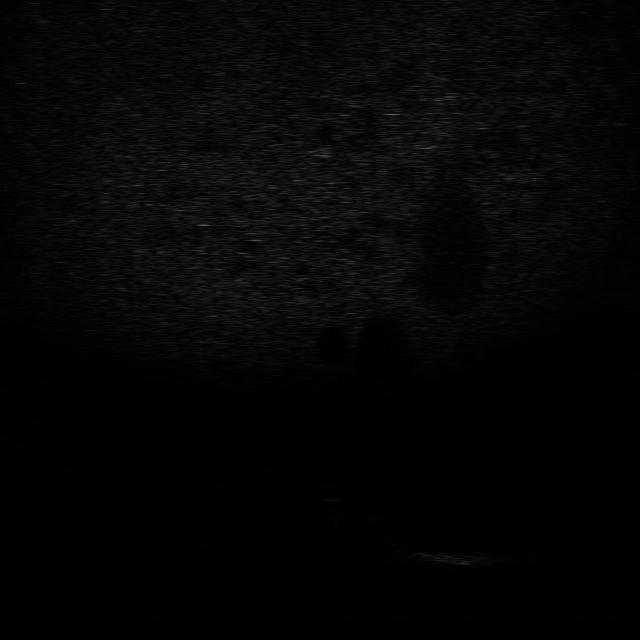ball: (316, 483, 348, 504)
metal bucket: (410, 543, 496, 571)
tyre: (357, 515, 412, 545)
